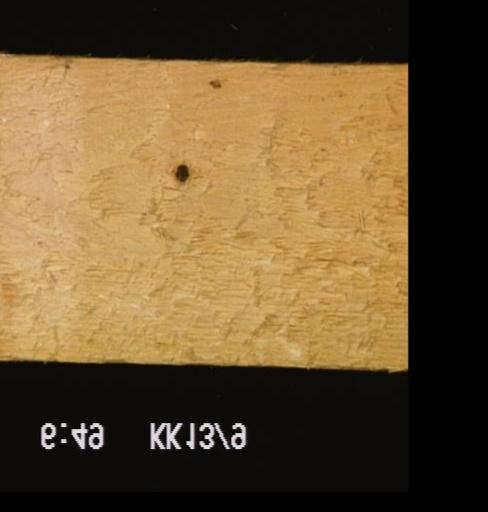dry_knot: (170, 161, 190, 185)
small_knot: (205, 76, 225, 93)
